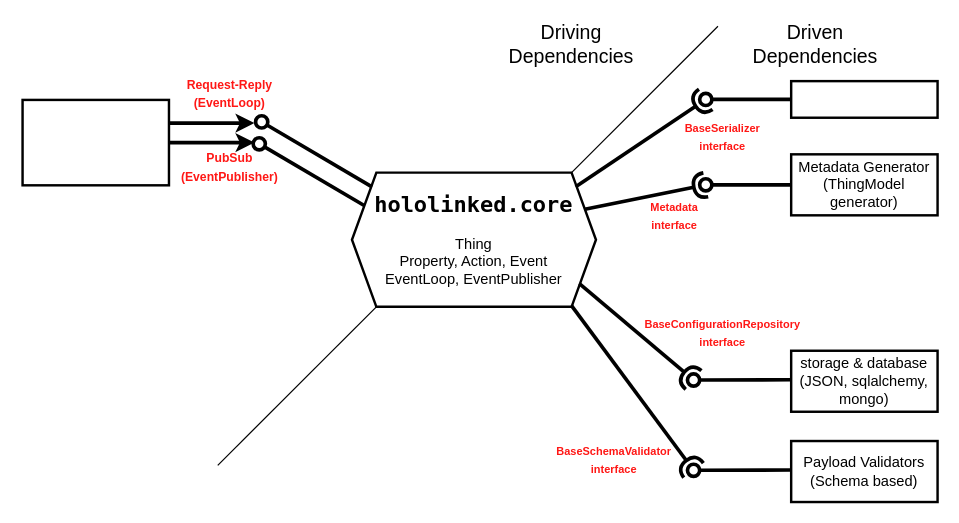
Image size: 959x523. Some labels were removed from this diagram. Here are the shapes that lost their labels. From the top down, the box of each, then its label:
(789, 79, 938, 118): Serializers
(21, 98, 170, 186): Protocol Servers (HTTP, MQTT etc.)
